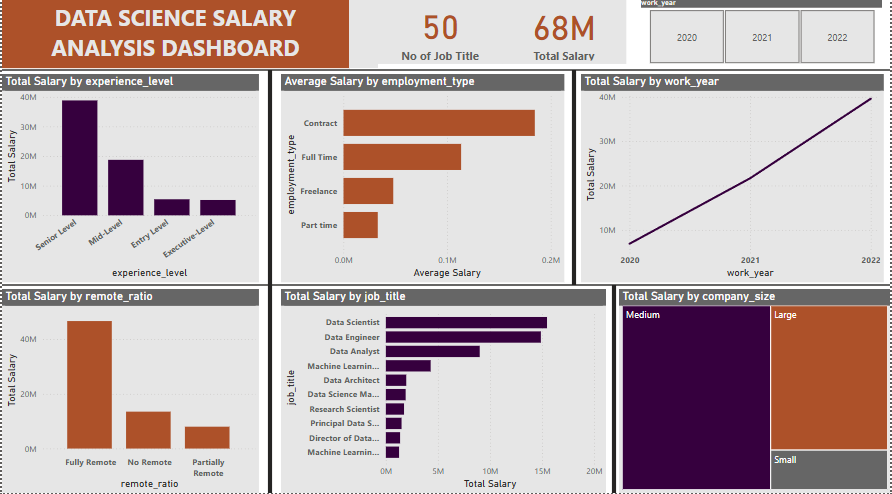

This screenshot's page, from the dashboard's own definition file:
{"tool":"powerbi","page":{"name":"Page 1","canvas":[1280,720],"ordinal":0},"visuals":[{"type":"card","fields":{"Values":["ds_salaries.No of Job Title"]},"box":[541.4,7.2,178.6,95],"z":0},{"type":"card","fields":{"Values":["ds_salaries.Total Salary"]},"box":[720,7.2,178.6,95],"z":1000},{"type":"clusteredColumnChart","fields":{"Category":["ds_salaries.experience_level"],"Y":["ds_salaries.Total Salary"]},"box":[0,116.6,370.1,299.5],"z":2000},{"type":"lineClusteredColumnComboChart","fields":{"Category":["ds_salaries.remote_ratio"],"Y":["ds_salaries.Total Salary"]},"box":[0,426.2,370.1,293.8],"z":3000},{"type":"clusteredBarChart","fields":{"Category":["ds_salaries.employment_type"],"Y":["ds_salaries.Average Salary"]},"box":[401.8,116.6,407.5,299.5],"z":4000},{"type":"clusteredBarChart","fields":{"Category":["ds_salaries.job_title"],"Y":["ds_salaries.Total Salary"]},"box":[401.8,426.2,468,293.8],"z":5000},{"type":"treemap","fields":{"Group":["ds_salaries.company_size"],"Values":["ds_salaries.Total Salary"]},"box":[888.5,426.2,391.7,293.8],"z":6000},{"type":"slicer","fields":{"Values":["ds_salaries.work_year"]},"box":[907.2,2.9,373,105.1],"z":7000},{"type":"lineChart","fields":{"Y":["ds_salaries.Total Salary"],"Category":["ds_salaries.work_year"]},"box":[833.8,116.6,436.3,299.5],"z":8000},{"type":"textbox","box":[0,7.2,499.7,100.8],"z":9000},{"type":"shape","box":[0,102.2,1280,17.3],"z":10000},{"type":"shape","box":[0,411.8,1280,17.3],"z":11000},{"type":"shape","box":[499.7,7.2,41.8,100.8],"z":12000},{"type":"shape","box":[362.9,110.9,46.1,309.6],"z":13000},{"type":"shape","box":[800.6,110.9,46.1,309.6],"z":14000},{"type":"shape","box":[362.9,420.5,46.1,299.5],"z":15000},{"type":"shape","box":[858.2,420.5,46.1,299.5],"z":16000}]}

Visuals, with their boxes in screenshot pixels (x1, y1, x2, y2), scaled from the page's 1280x720 canvas onto the 892x494 screenshot:
card - ds_salaries.No of Job Title: crop(377, 5, 502, 70)
card - ds_salaries.Total Salary: crop(502, 5, 626, 70)
clusteredColumnChart - ds_salaries.experience_level x ds_salaries.Total Salary: crop(0, 80, 258, 285)
lineClusteredColumnComboChart - ds_salaries.remote_ratio x ds_salaries.Total Salary: crop(0, 292, 258, 493)
clusteredBarChart - ds_salaries.employment_type x ds_salaries.Average Salary: crop(280, 80, 564, 285)
clusteredBarChart - ds_salaries.job_title x ds_salaries.Total Salary: crop(280, 292, 606, 493)
treemap - ds_salaries.company_size x ds_salaries.Total Salary: crop(619, 292, 891, 493)
slicer - ds_salaries.work_year: crop(632, 2, 891, 74)
lineChart - ds_salaries.Total Salary x ds_salaries.work_year: crop(581, 80, 885, 285)
textbox: crop(0, 5, 348, 74)
shape: crop(0, 70, 891, 82)
shape: crop(0, 283, 891, 294)
shape: crop(348, 5, 377, 74)
shape: crop(253, 76, 285, 289)
shape: crop(558, 76, 590, 289)
shape: crop(253, 289, 285, 493)
shape: crop(598, 289, 630, 493)
